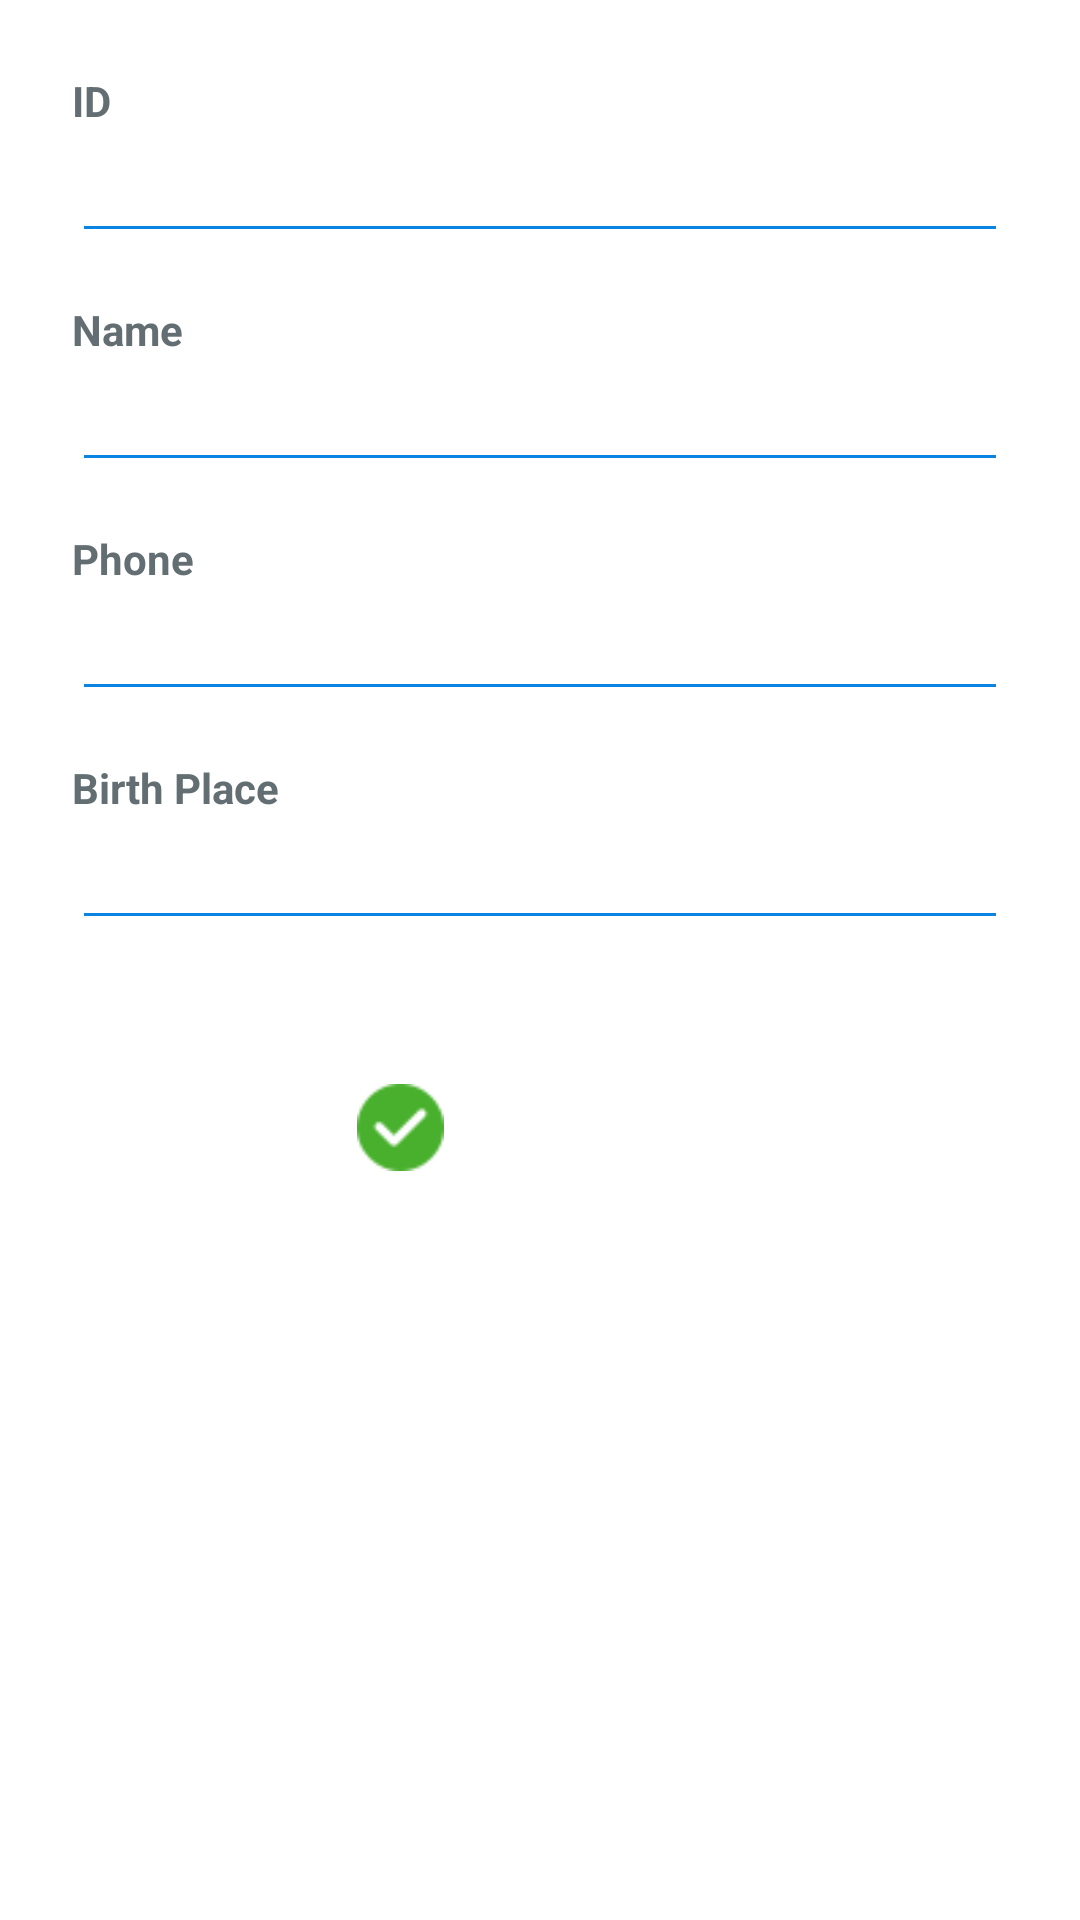

Icon click points for this 1080 x 1920 phone screenshot, format point (x, y):
Save: point (400, 1127)
